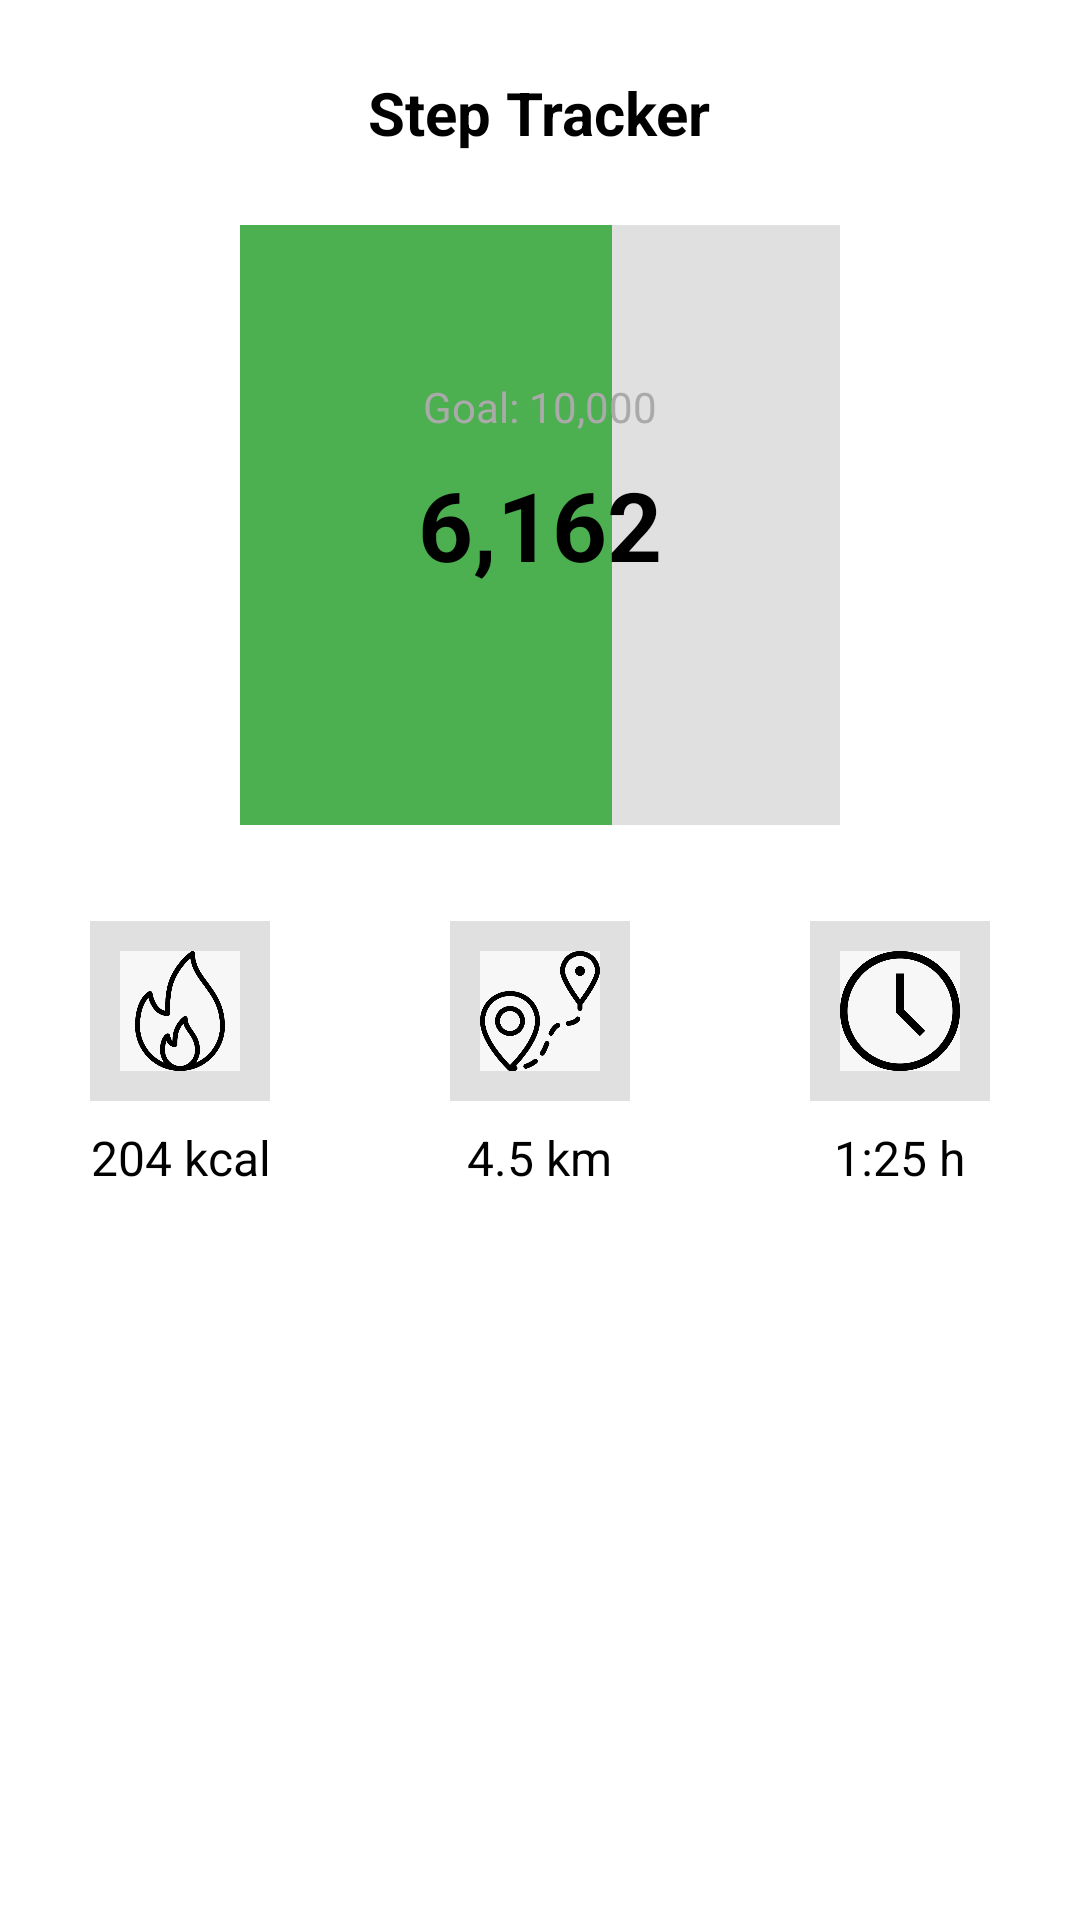

Point at icon controls on the screen. Image size 1080px x 1920px, points as (x=x, y=y).
clock: (x=900, y=1011)
distance: (x=540, y=1011)
fire: (x=180, y=1011)
